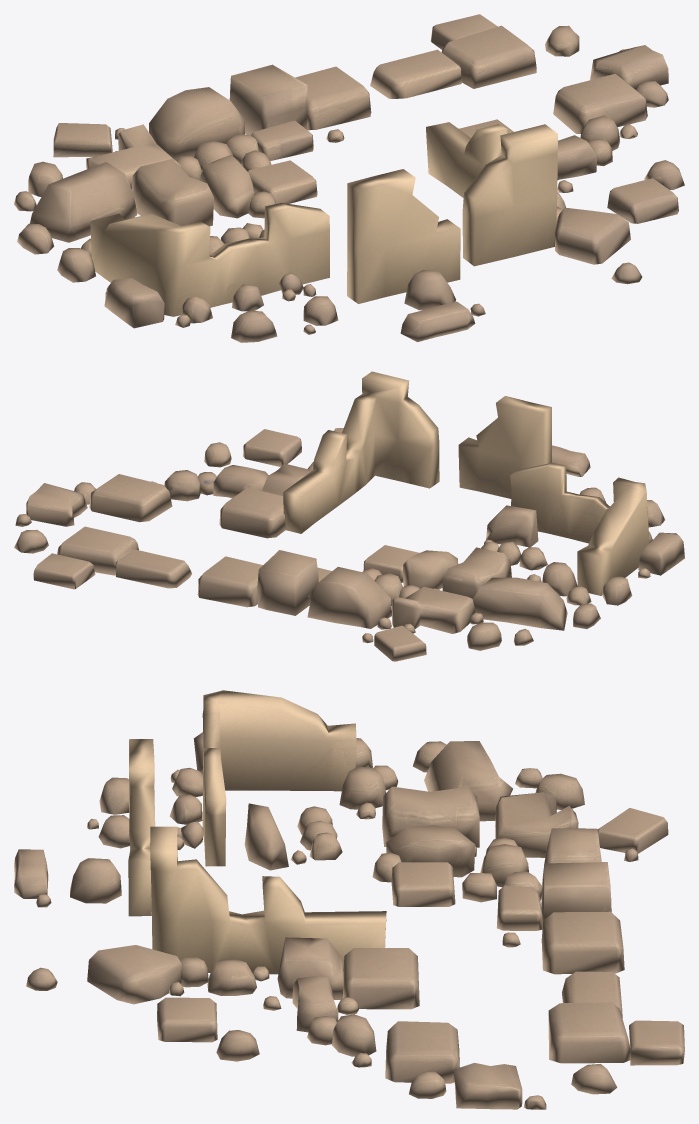
File: meshy-c8-d4.glb
3 renders of one model, top to bottom at view 1: azimuth 30°, elevation 25°; view 2: azimuth 150°, elevation 25°; view 3: azimuth 270°, elevation 25°, orthographic. The views are drawn at different scales.
Size of the model in its own units: 1 by 0.1697 by 0.8168.
1 material, 1 textured.
